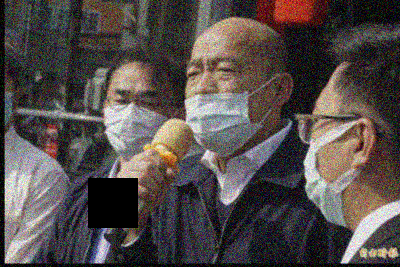mask_weared_incorrect: (185, 50, 277, 158)
with_mask: (293, 95, 359, 229), (103, 83, 180, 161)
